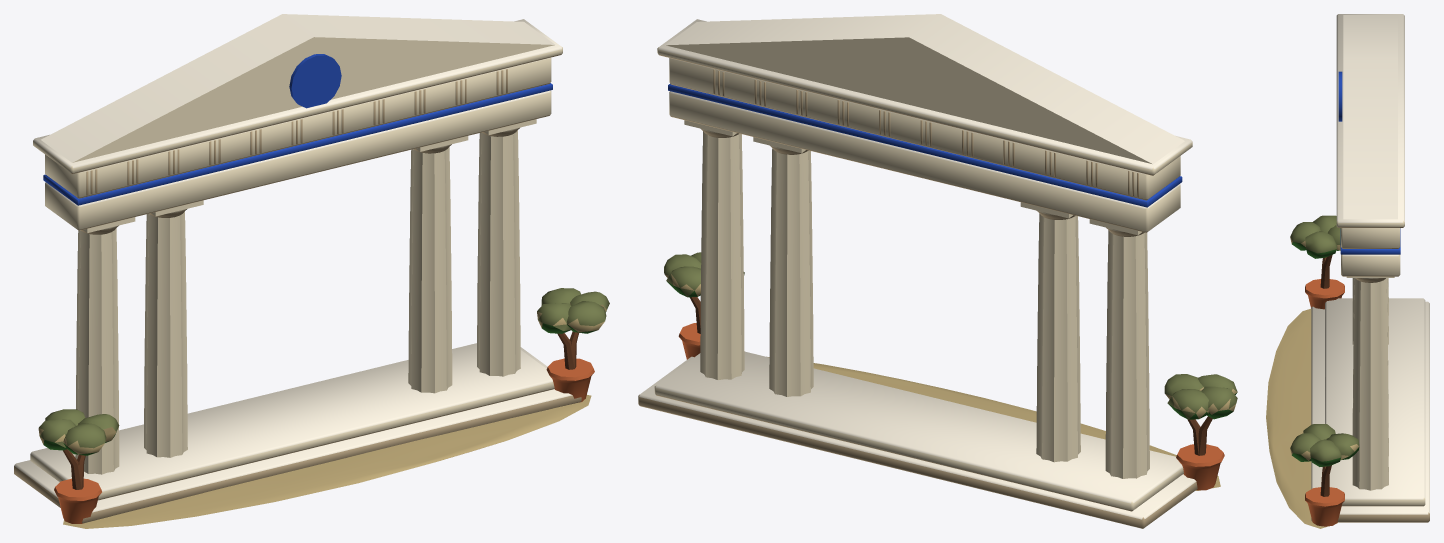
File: GreekGate.fbx
The picture shows the model from 3 angles, left to right: view 1: azimuth 30°, elevation 25°; view 2: azimuth 150°, elevation 25°; view 3: azimuth 270°, elevation 25°; orthographic projection. The views are drawn at different scales.
Parts seen in each view (by area): view 1: GreekGate; view 2: GreekGate; view 3: GreekGate.
Boxes of the visible parts, x1,y1,x2,y2 form: GreekGate: (14, 14, 609, 528); GreekGate: (638, 14, 1237, 528); GreekGate: (1266, 14, 1429, 528).
Bounding box in the file's own units: 12.38 × 8.66 × 3.6.
Materials: 1 (1 with a texture image).
